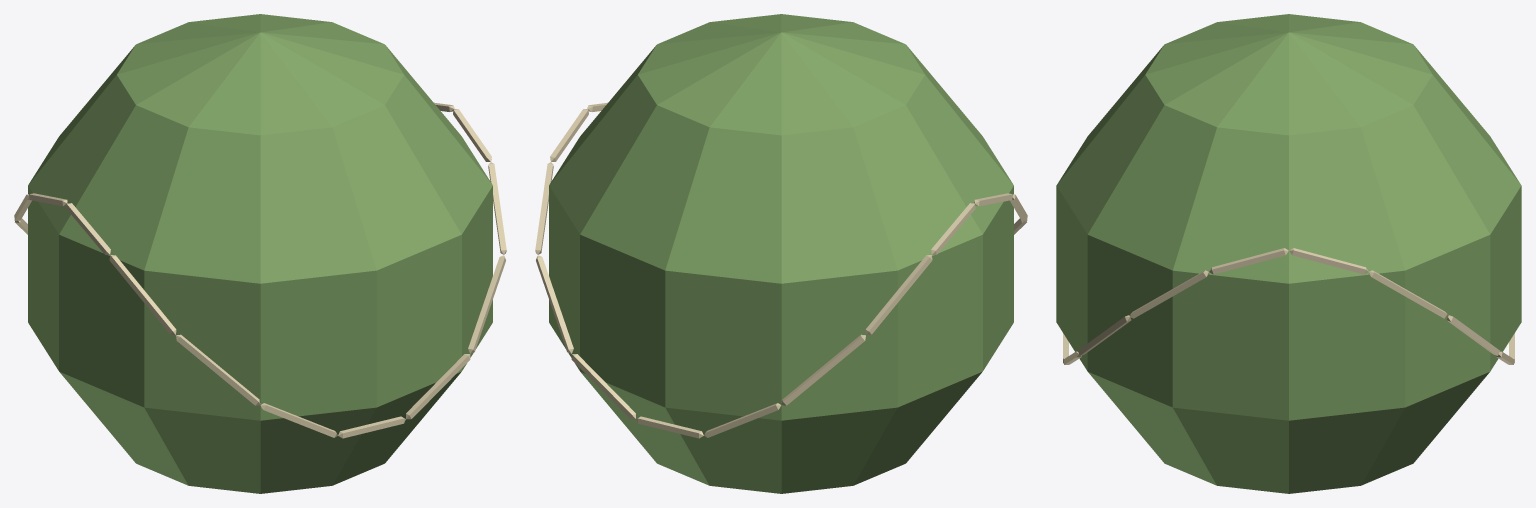
The model's file is b17_tennis_ball.glb.
3 renders of one model, left to right at view 1: azimuth 30°, elevation 25°; view 2: azimuth 150°, elevation 25°; view 3: azimuth 270°, elevation 25°, orthographic.
Visible parts, largest first — view 1: b17_tennis_ball; view 2: b17_tennis_ball; view 3: b17_tennis_ball.
Part boxes in pixels (<box>): b17_tennis_ball: <box>14,14,506,493</box>; b17_tennis_ball: <box>535,14,1027,493</box>; b17_tennis_ball: <box>1056,14,1521,493</box>.
Bounding box in the file's own units: 0.0647 × 0.068 × 0.0647.
